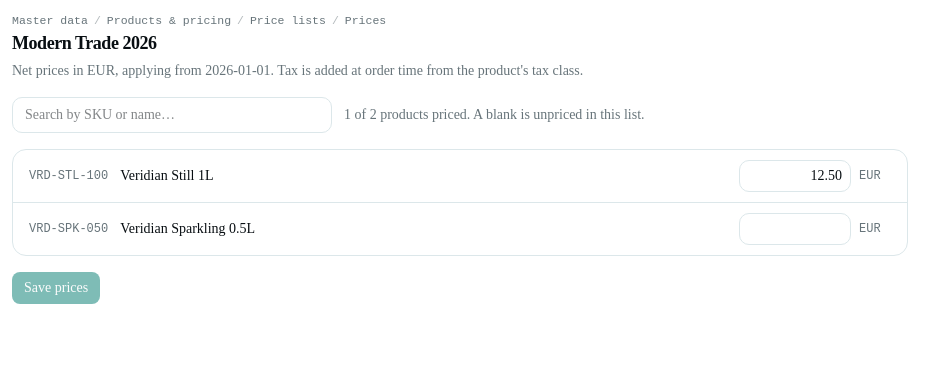
Test: <PriceListPrices> › passes on a refusal in the API's own words
Expected: the button "Save prices" is shown, [12,272,100,304]
Type "9.90" into the field named "Price for Veridian Sparkling 0.5L" at (795, 229), box [739,213,851,245]
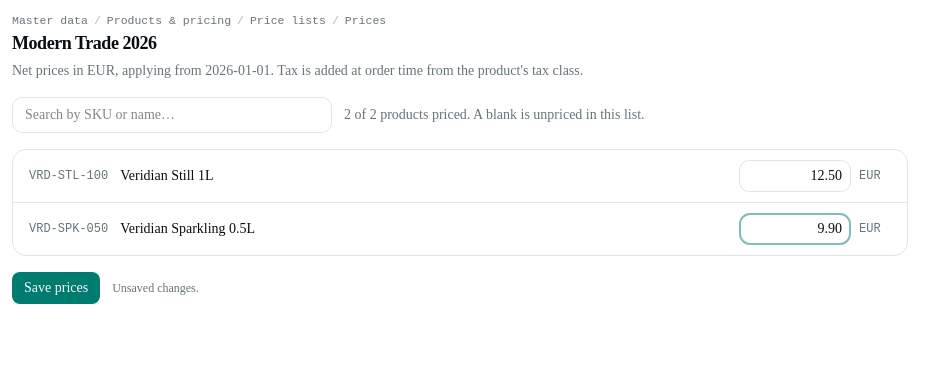
Click the button "Save prices" at (56, 288), box [12,272,100,304]
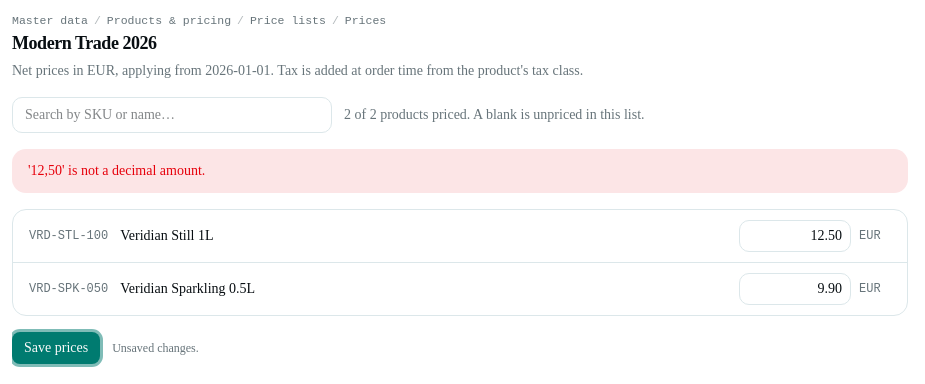
Now the message "'12,50' is not a decimal amount." is shown, box [12,149,908,193]
